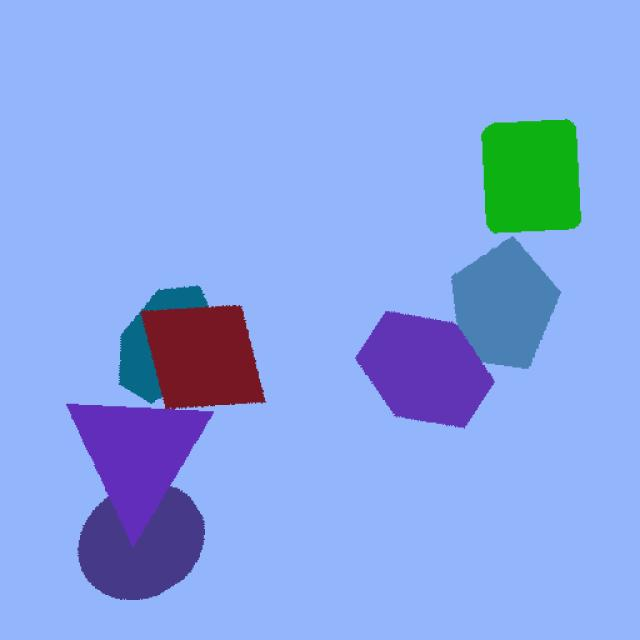Circle: (49, 475, 229, 604)
Heptagon: (357, 300, 499, 453), (100, 264, 224, 408)
Kite: (142, 300, 276, 419)
Pentagon: (431, 230, 575, 384)
Triangle: (58, 397, 221, 549)
square: (478, 117, 590, 247)
